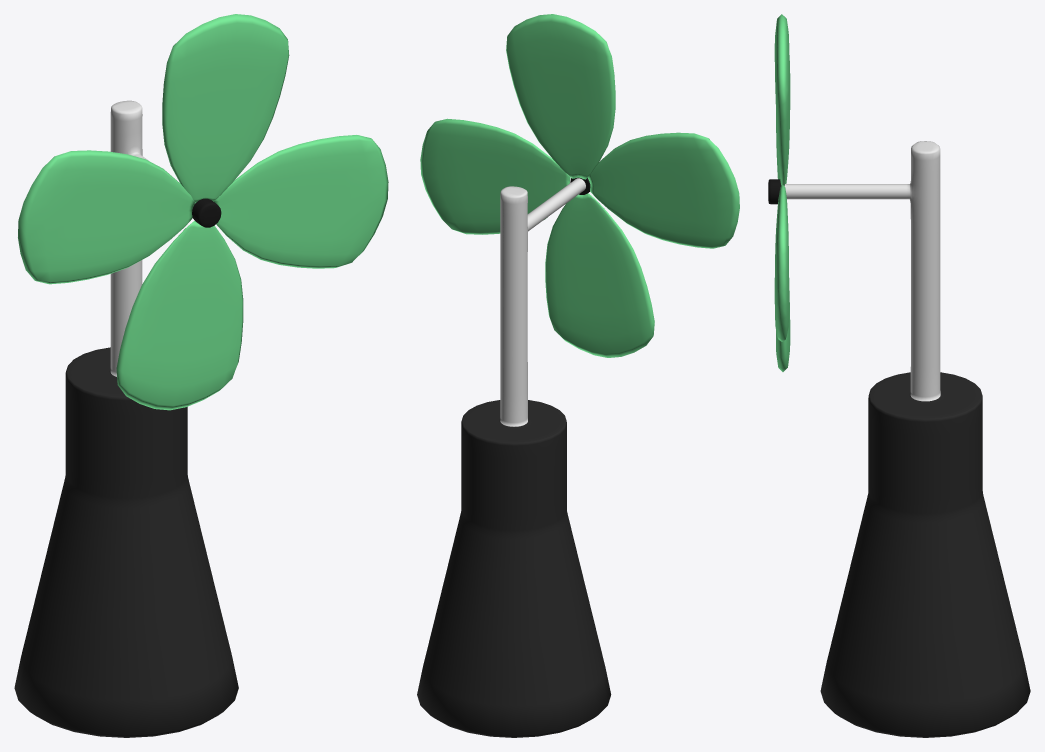
Rendered from Molino.fbx.
3 renders of one model, left to right at view 1: azimuth 30°, elevation 25°; view 2: azimuth 150°, elevation 25°; view 3: azimuth 270°, elevation 25°, orthographic. The views are drawn at different scales.
Visible parts, largest first — view 1: Cube.001, Cylinder; view 2: Cylinder, Cube.001; view 3: Cylinder, Cube.001.
Part boxes in pixels (left/top/right/bottom): Cube.001: left=18, top=14, right=388, bottom=410; Cylinder: left=14, top=100, right=238, bottom=737; Cylinder: left=417, top=177, right=611, bottom=737; Cube.001: left=420, top=14, right=739, bottom=357; Cylinder: left=768, top=141, right=1030, bottom=737; Cube.001: left=774, top=14, right=790, bottom=371.
Size of the model in its own units: 356 by 669 by 233.
